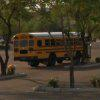Bus: (10, 28, 84, 68)
